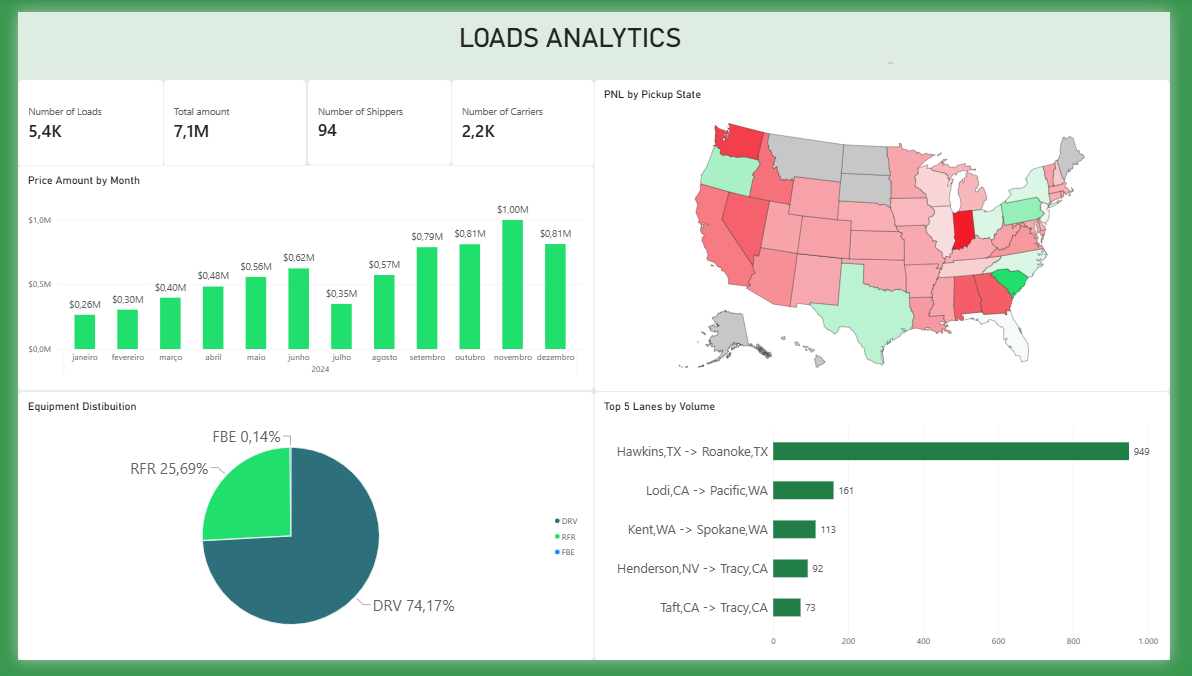

The dashboard page shown, as its layout file describes it:
{"tool":"powerbi","page":{"name":"Página 1","canvas":[1920,1080],"ordinal":0},"visuals":[{"type":"barChart","title":"Top 5 Lanes by Volume","fields":{"Category":["analytics dim_lane.lane_name"],"Y":["CountNonNull(analytics fact_loads.lane_id)"]},"box":[960,632,960,448],"z":0},{"type":"cardVisual","fields":{"Data":["CountNonNull(analytics fact_loads.loadsmart_id)"]},"box":[0,111.7,243.3,145],"z":1000},{"type":"cardVisual","fields":{"Data":["Count(analytics fact_loads.carrier_id)"]},"box":[721.7,111.7,238.3,145],"z":2000},{"type":"cardVisual","fields":{"Data":["Sum(analytics fact_loads.book_price)"]},"box":[243.3,111.7,238.3,145],"z":3000},{"type":"cardVisual","fields":{"Data":["Count(analytics fact_loads.shipper_id)"]},"box":[481.7,111.7,240,143.3],"z":4000},{"type":"textbox","title":"LOADS ANALYTICS","box":[382.5,17.5,1075,68.3],"z":5000},{"type":"lineClusteredColumnComboChart","title":"Price Amount by Month","fields":{"Category":["analytics fact_loads.delivery_date.Variation.Hierarquia de datas.Ano","analytics fact_loads.delivery_date.Variation.Hierarquia de datas.Mês"],"Y":["Sum(analytics fact_loads.book_price)"]},"box":[0,256,960,376],"z":6000},{"type":"pieChart","title":"Equipment Distibuition","fields":{"Category":["analytics fact_loads.equipment_type"],"Y":["Sum(analytics fact_loads.book_price)"]},"box":[0,632,960,448],"z":7000},{"type":"shapeMap","title":"PNL by Pickup State","fields":{"Category":["analytics dim_location.state"],"Value":["analytics fact_loads.PNL by Pickup State"]},"box":[960,112,960,520],"z":8000}]}

Visuals, with their boxes in screenshot pixels (x1, y1, x2, y2), scaled from the page's 1920x1080 canvas onto the 1192x676 screenshot:
"Top 5 Lanes by Volume" barChart: crop(596, 396, 1191, 675)
cardVisual - CountNonNull(analytics fact_loads.loadsmart_id): crop(0, 70, 151, 161)
cardVisual - Count(analytics fact_loads.carrier_id): crop(448, 70, 596, 161)
cardVisual - Sum(analytics fact_loads.book_price): crop(151, 70, 299, 161)
cardVisual - Count(analytics fact_loads.shipper_id): crop(299, 70, 448, 160)
"LOADS ANALYTICS" textbox: crop(237, 11, 905, 54)
"Price Amount by Month" lineClusteredColumnComboChart: crop(0, 160, 596, 396)
"Equipment Distibuition" pieChart: crop(0, 396, 596, 675)
"PNL by Pickup State" shapeMap: crop(596, 70, 1191, 396)
